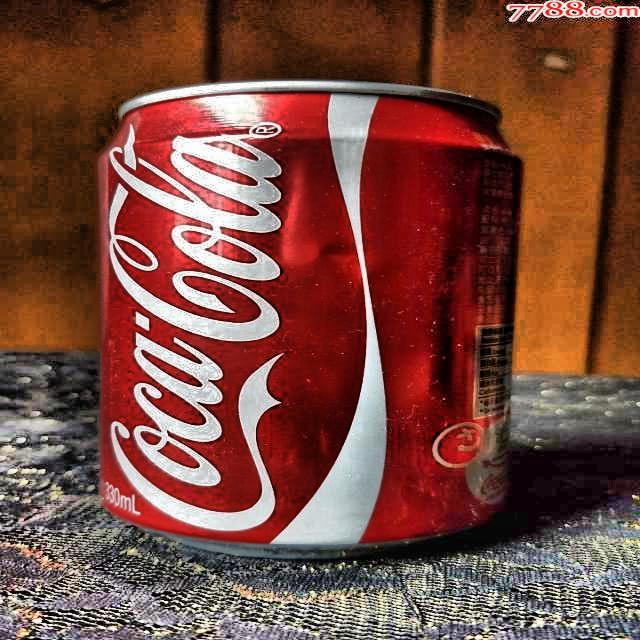can: (85, 67, 535, 575)
